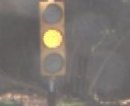Yellow: (32, 1, 71, 81)
